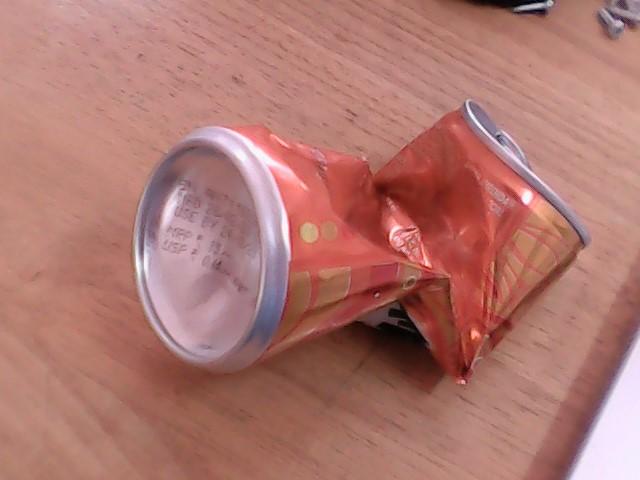Metal: (120, 97, 640, 383)
